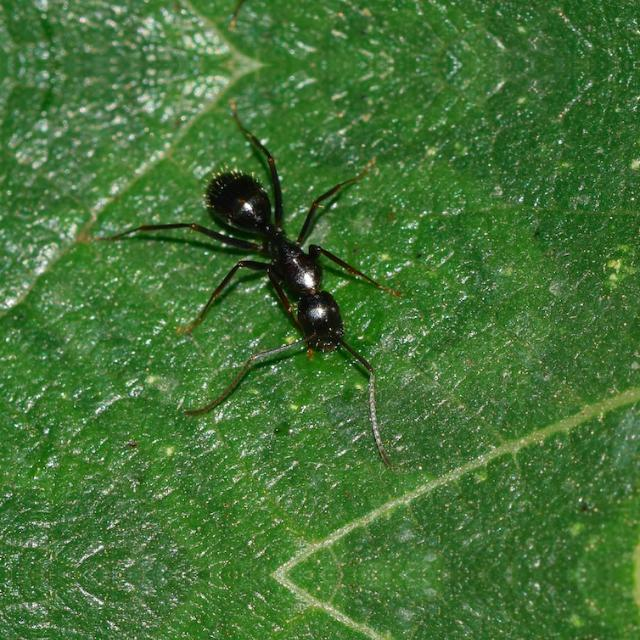Camponotus: (168, 146, 400, 388)
